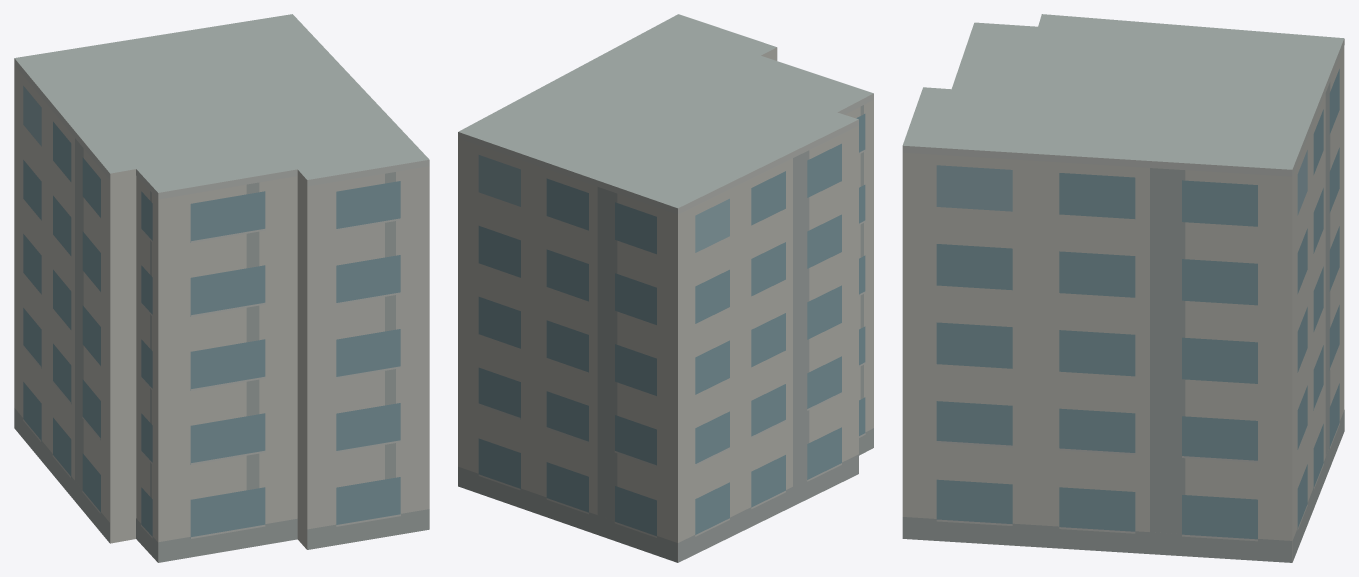
Rendered from survey-upis-32775324.glb.
3 views of the same model, side by side, from view 1: azimuth 30°, elevation 25°; view 2: azimuth 150°, elevation 25°; view 3: azimuth 270°, elevation 25° (orthographic). The views are drawn at different scales.
Visible parts, largest first — view 1: survey-upis-32775324.tmp; view 2: survey-upis-32775324.tmp; view 3: survey-upis-32775324.tmp.
Part boxes in pixels (box(x1,y1,x2,y2)): survey-upis-32775324.tmp: box(14, 14, 429, 562); survey-upis-32775324.tmp: box(458, 14, 873, 562); survey-upis-32775324.tmp: box(902, 14, 1344, 562).
Size of the model in its own units: 11.65 by 13.7 by 13.97.
